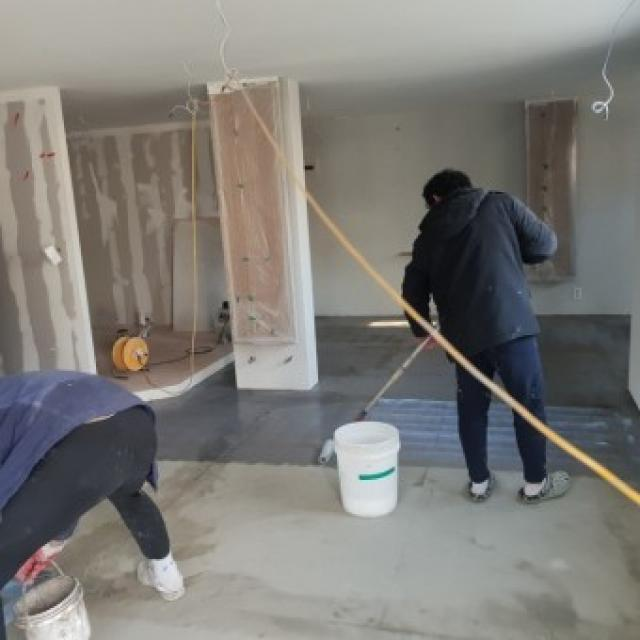plastic barrel: (334, 422, 402, 517), (11, 574, 90, 640)
roller: (318, 326, 439, 463)
